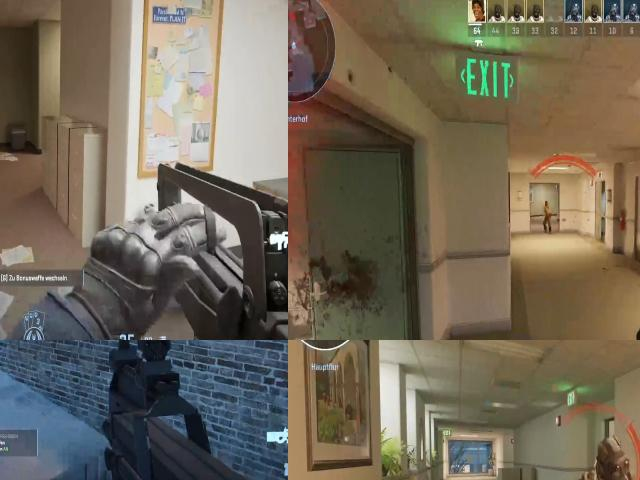CT: (568, 426, 640, 480)
CT-Head: (592, 438, 632, 480)
T: (542, 194, 554, 226)
T-Head: (543, 199, 550, 210)
